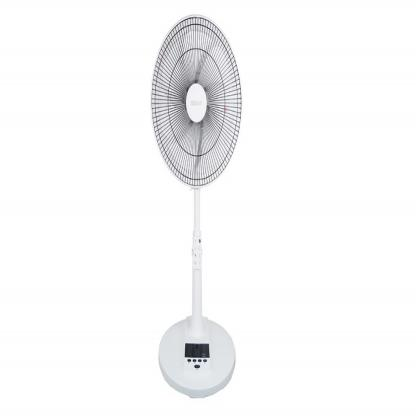fan: (139, 6, 257, 408)
